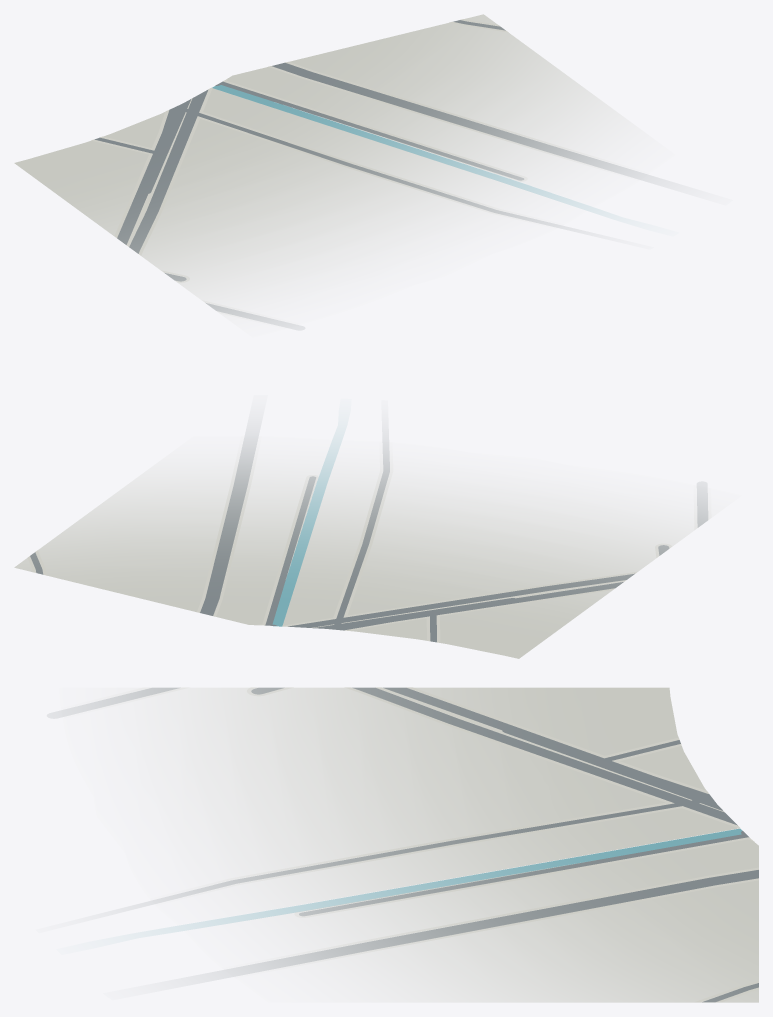
3 views of the same model, one above another, from view 1: azimuth 30°, elevation 25°; view 2: azimuth 150°, elevation 25°; view 3: azimuth 270°, elevation 25° (orthographic). The views are drawn at different scales.
Visible parts, largest first — view 1: city; view 2: city; view 3: city.
Boxes of the visible parts, bbox=[...] form: city: bbox=[14, 14, 662, 329]; city: bbox=[14, 428, 711, 658]; city: bbox=[47, 687, 758, 1002].
Bounding box in the file's own units: 500 × 0.4 × 500.
